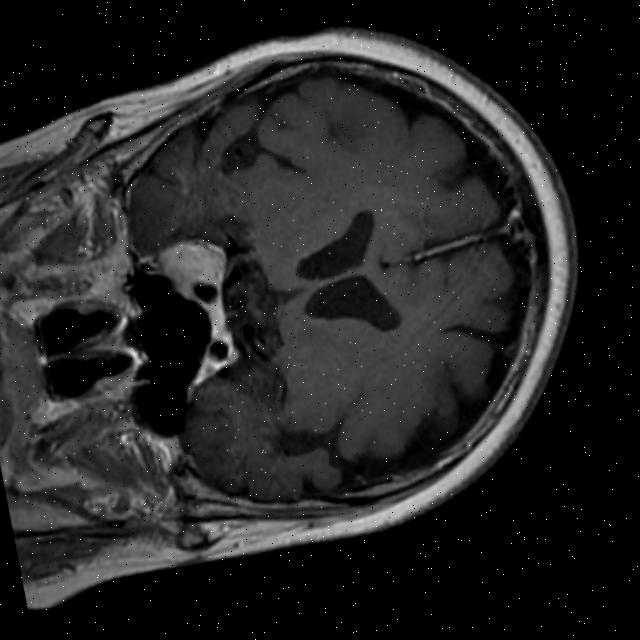Meningioma: (155, 227, 234, 294)
